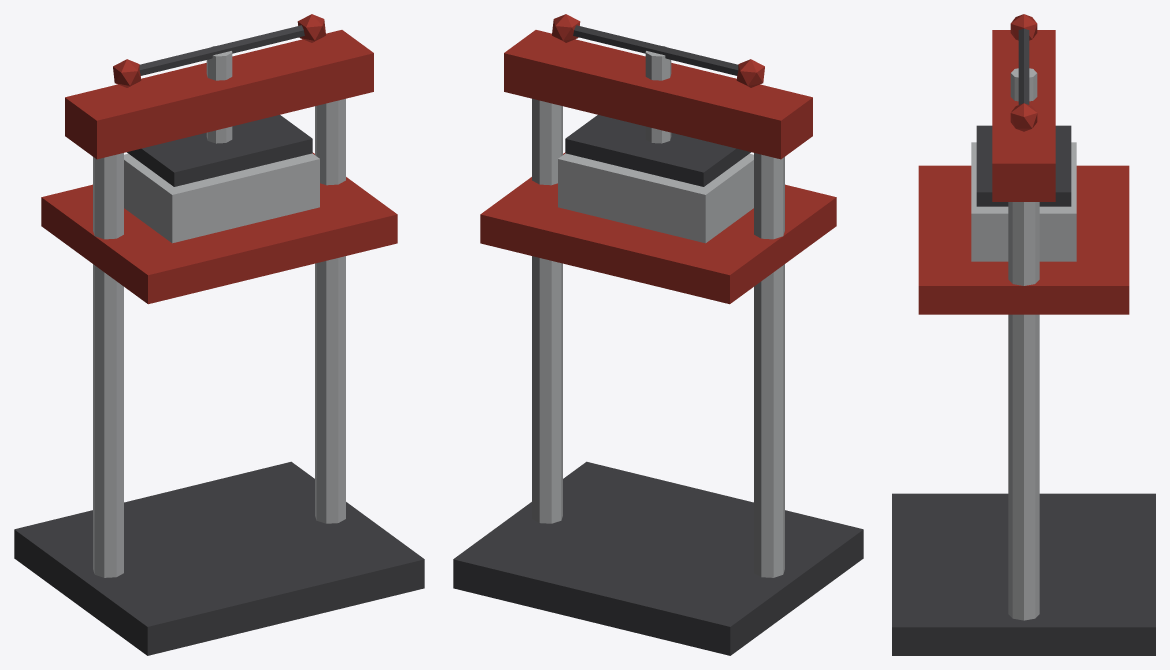
File: Coke_Press.glb
3 renders of one model, left to right at view 1: azimuth 30°, elevation 25°; view 2: azimuth 150°, elevation 25°; view 3: azimuth 270°, elevation 25°, orthographic.
Parts seen in each view (by area): view 1: Coke_Press; view 2: Coke_Press; view 3: Coke_Press.
Part boxes in pixels (x1,y1,x2,y2): Coke_Press: [14, 14, 424, 655]; Coke_Press: [453, 14, 863, 655]; Coke_Press: [892, 14, 1155, 655].
Size of what is drawn, in the model's own units: 0.6 by 1.11 by 0.5.
